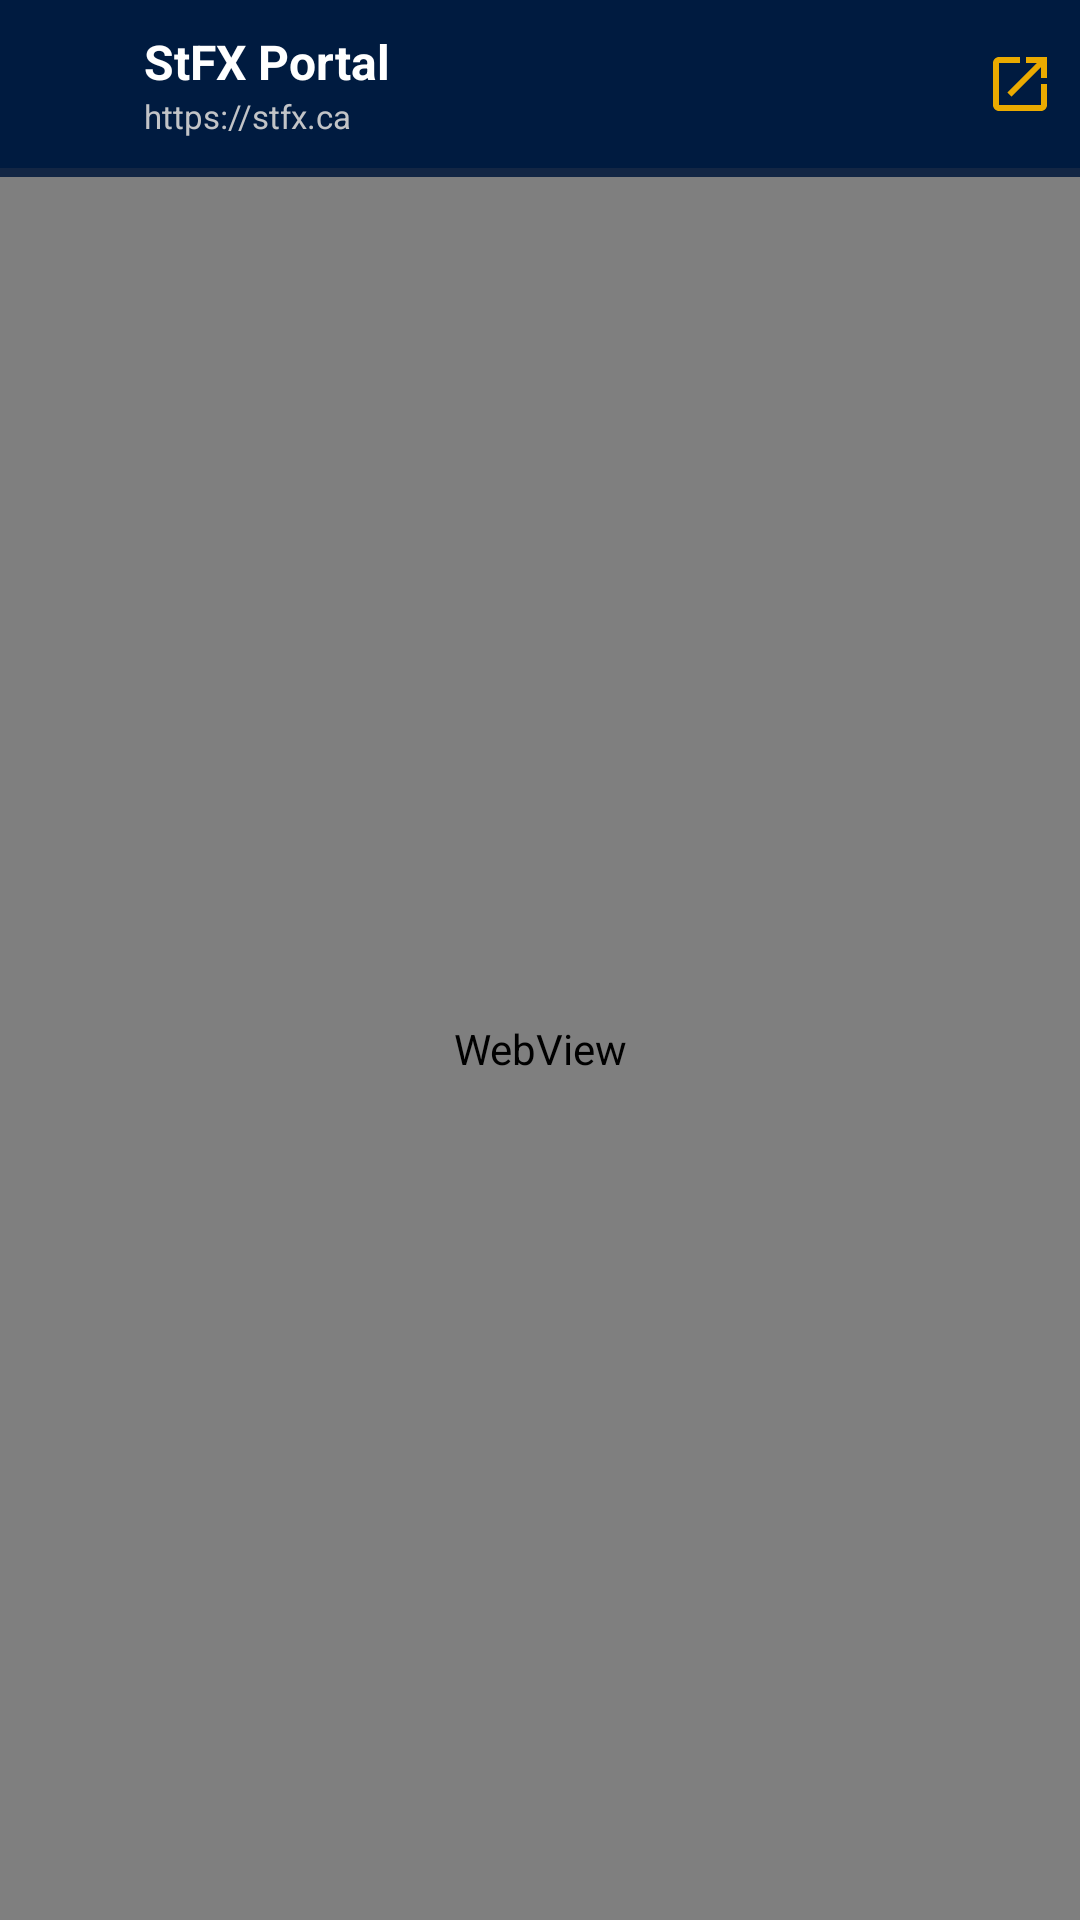

Screen size 1080 x 1920. Icon name, then its center in pixels as (x,y):
Open in Browser: (1020,84)
